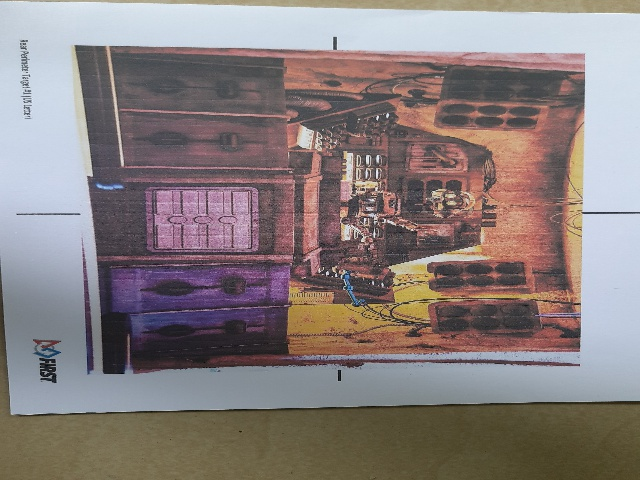rept1: (4, 9, 640, 401)
